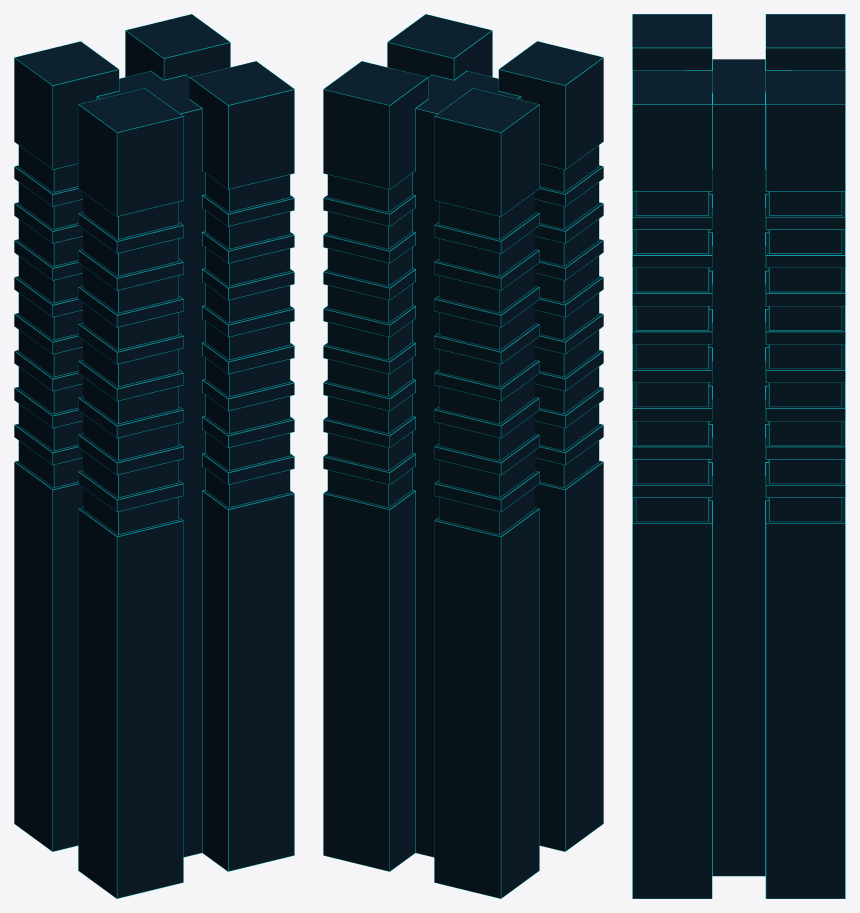
The picture shows the model from 3 angles, left to right: view 1: azimuth 30°, elevation 25°; view 2: azimuth 150°, elevation 25°; view 3: azimuth 270°, elevation 25°; orthographic projection. The views are drawn at different scales.
Visible parts, largest first — view 1: BuildingH02; view 2: BuildingH02; view 3: BuildingH02.
Boxes of the visible parts, x1,y1,x2,y2 form: BuildingH02: (14, 14, 294, 898); BuildingH02: (323, 14, 603, 898); BuildingH02: (632, 14, 845, 898).
Size of the model in its own units: 73.95 by 304 by 73.95.
1 material, 1 textured.
